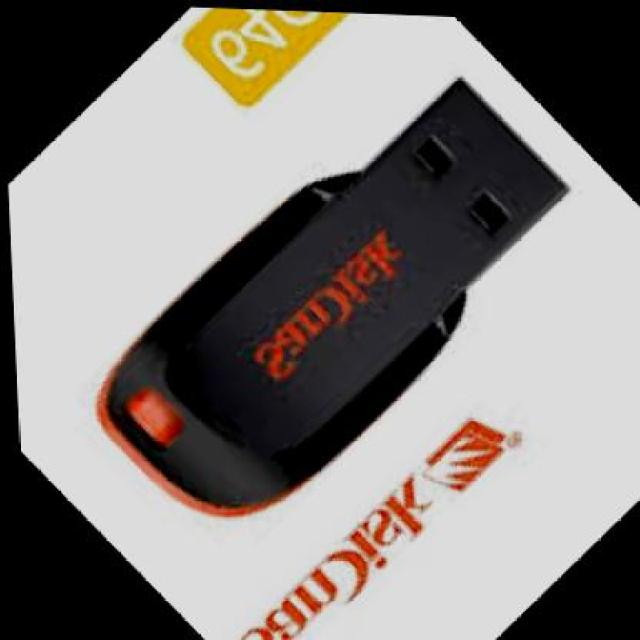Flashdisk: (52, 30, 606, 573)
